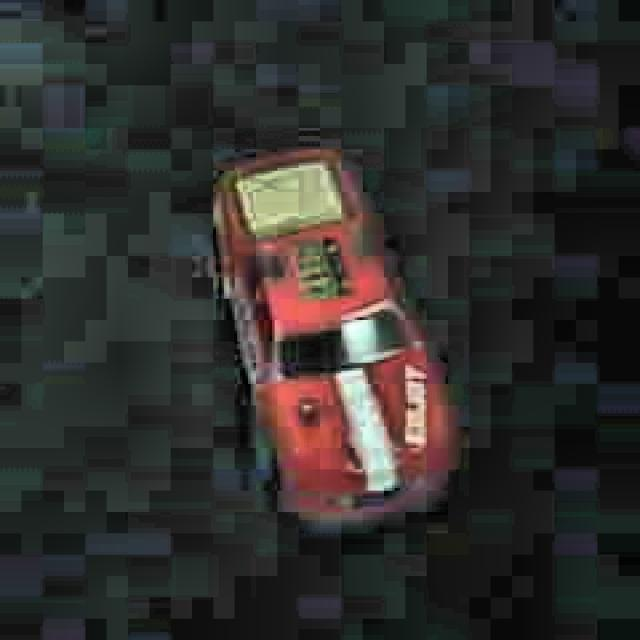car: (203, 132, 466, 532)
